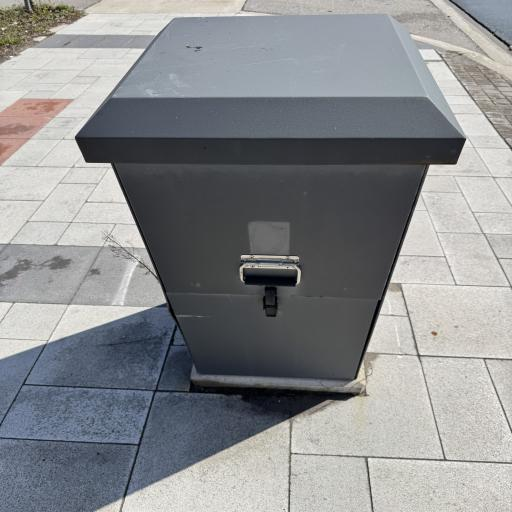Electrical Box: (74, 13, 469, 385)
